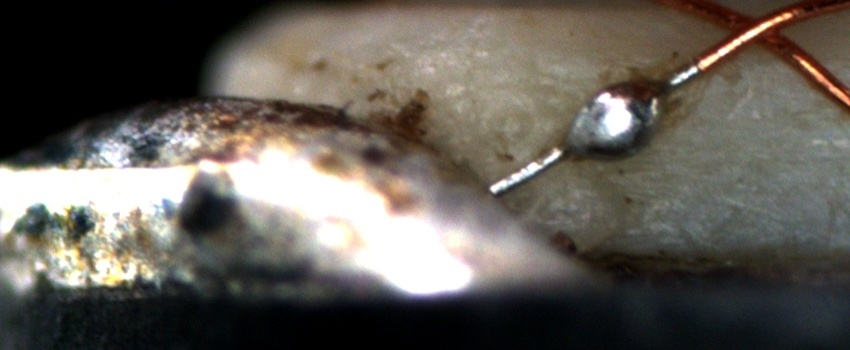CL: (708, 0, 806, 62)
DL: (553, 48, 850, 84), (697, 121, 850, 167)
TB: (556, 86, 669, 162)
TS: (485, 63, 701, 193)
TTCW: (480, 35, 737, 196)
